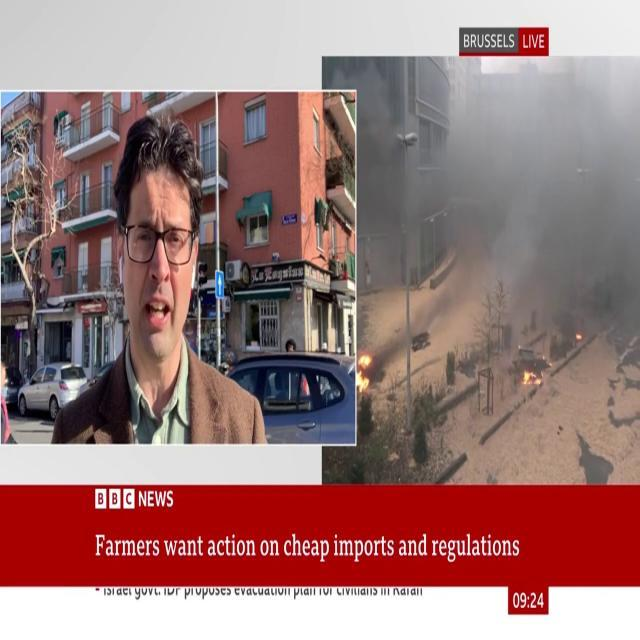Fire: (356, 342, 374, 394)
Smoke: (357, 56, 640, 354)
